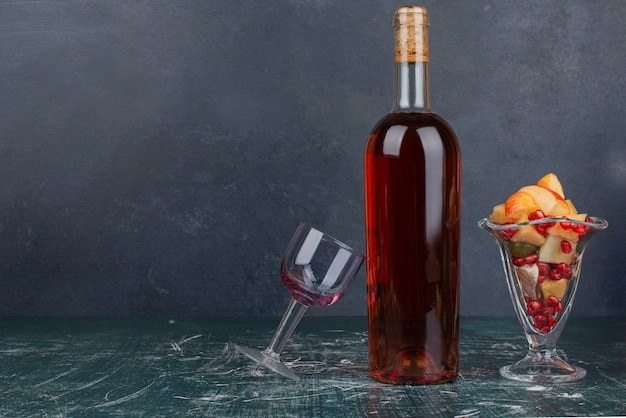alcohol: (364, 7, 464, 385), (233, 224, 366, 379)
